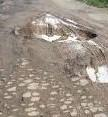pothole: (26, 13, 98, 43), (87, 62, 108, 85)
